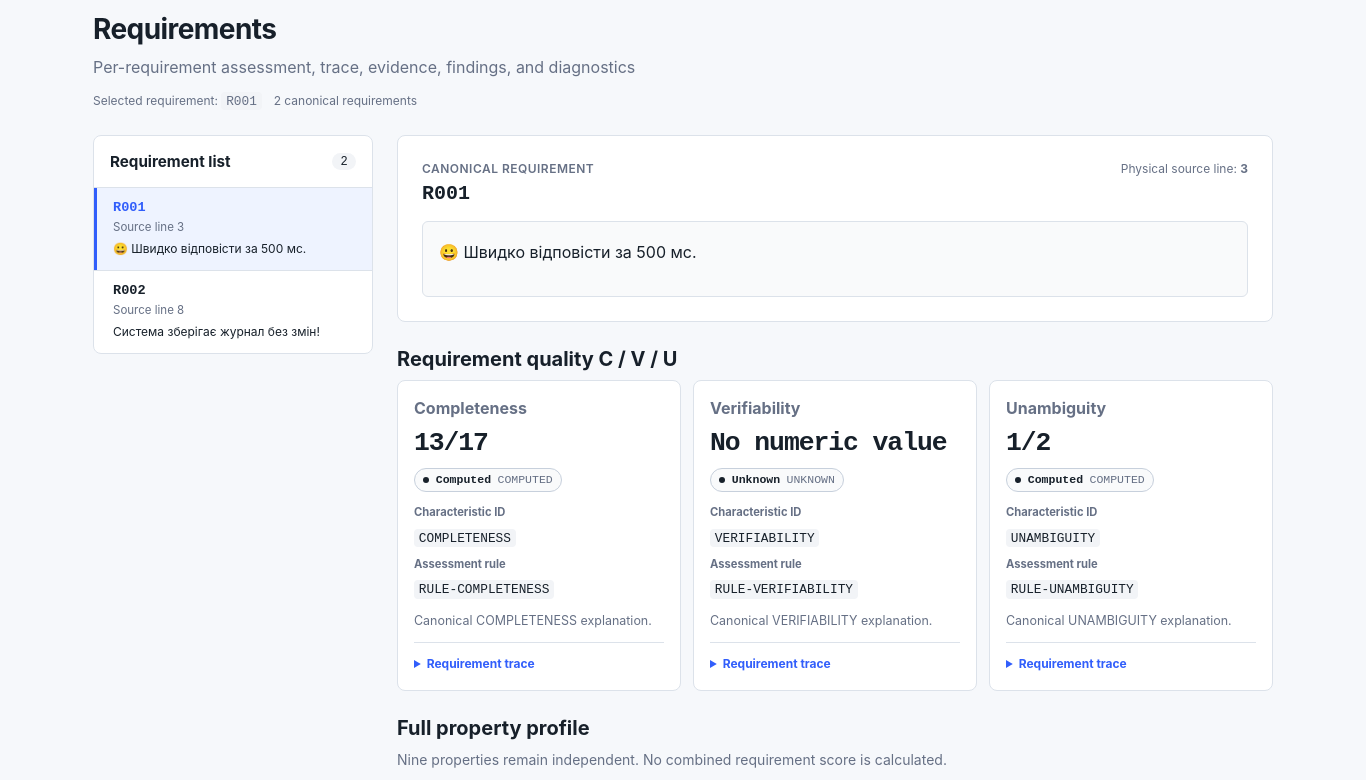
Test: RUI-08 Requirements page › selects R002 as presentation state and displays its exact identity, line, and text
The image size is (1366, 780).
Click the button "R002 Source line 8 Система зберігає журнал без змін!". click: (129, 291)
box: [94, 271, 372, 353]
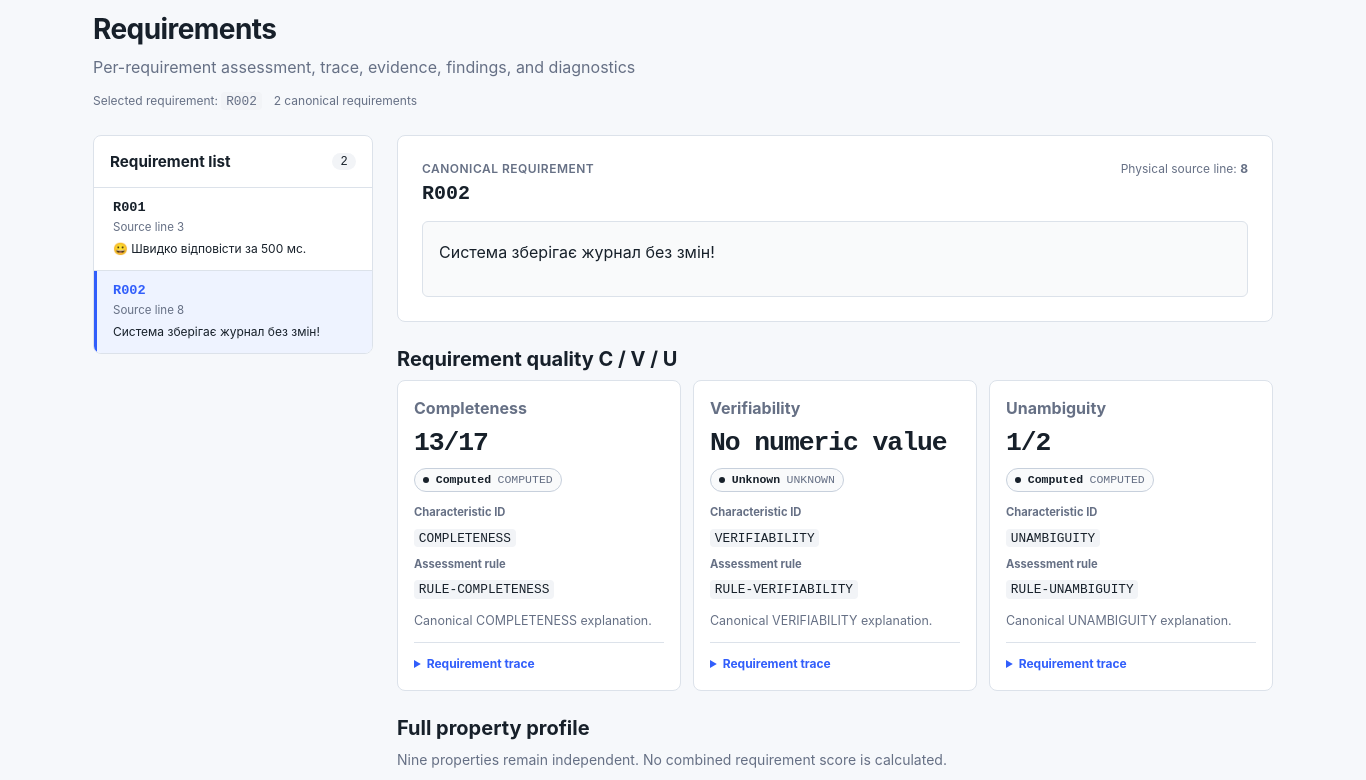
Expected: the text "Система зберігає журнал без змін!" is shown 2 times, [113, 324, 356, 341]; [422, 221, 1248, 297]
Expected: the heading "R002" is shown, [422, 182, 470, 205]
Expected: the element with class "requirement-source-card__identity" shows "8", [1240, 161, 1248, 176]
